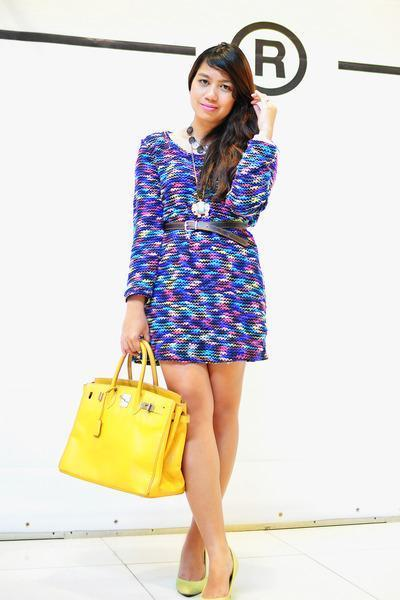bag: (58, 351, 192, 497)
dress: (124, 132, 277, 371)
shoe: (176, 576, 203, 599)
